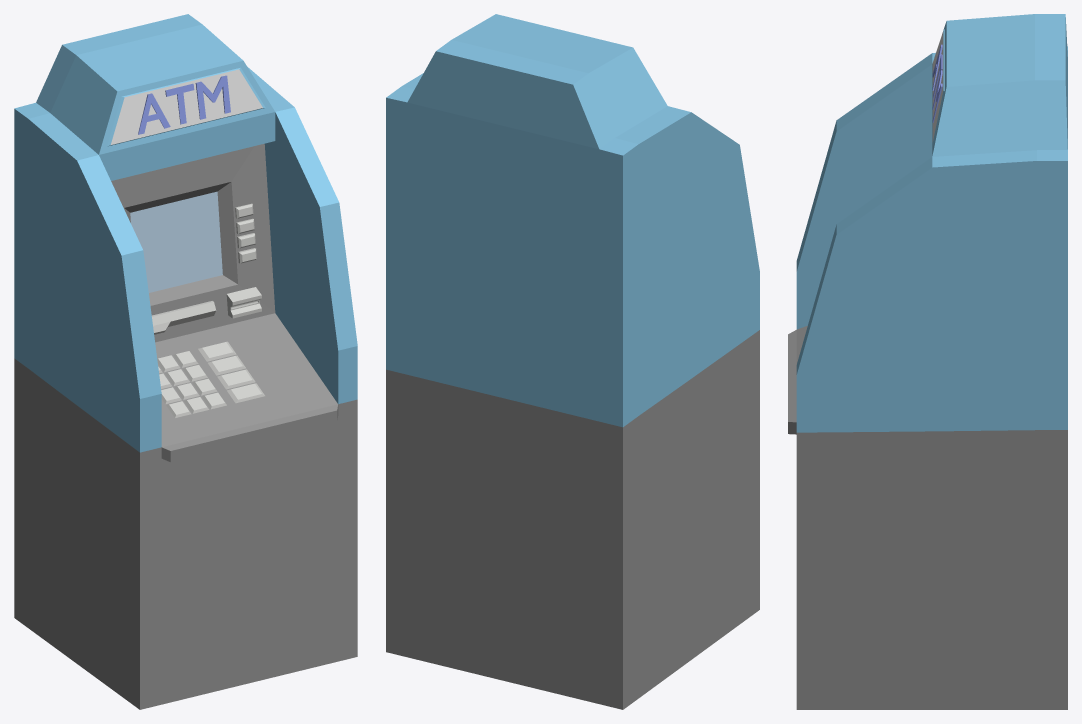
File: atm.glb
The picture shows the model from 3 angles, left to right: view 1: azimuth 30°, elevation 25°; view 2: azimuth 150°, elevation 25°; view 3: azimuth 270°, elevation 25°; orthographic projection. The views are drawn at different scales.
Parts seen in each view (by area): view 1: ATM; view 2: ATM; view 3: ATM.
Part boxes in pixels (bbox=[...]): ATM: bbox=[14, 14, 357, 709]; ATM: bbox=[386, 14, 759, 709]; ATM: bbox=[788, 14, 1067, 709].
Size of the model in its own units: 0.2217 by 0.5469 by 0.2288.
1 material, 1 textured.
